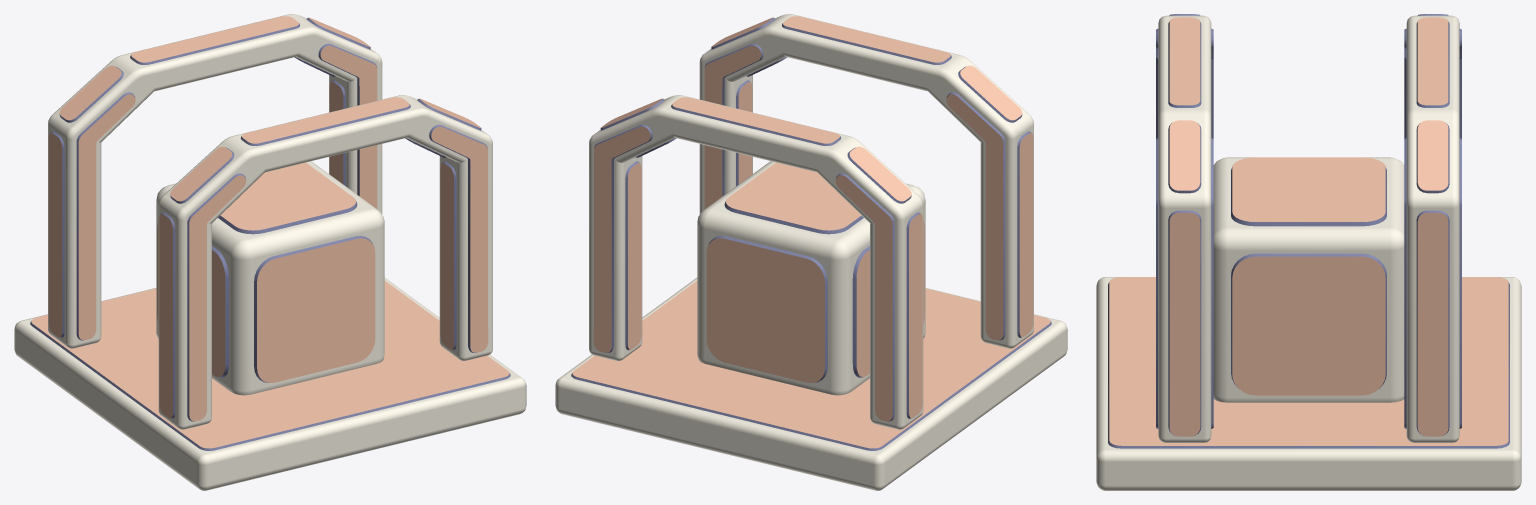
File: R4X_ModuleDurabilityBooster.fbx
The picture shows the model from 3 angles, left to right: view 1: azimuth 30°, elevation 25°; view 2: azimuth 150°, elevation 25°; view 3: azimuth 270°, elevation 25°; orthographic projection. The views are drawn at different scales.
Visible parts, largest first — view 1: R4X_ModuleDurabilityBooster_Body; view 2: R4X_ModuleDurabilityBooster_Body; view 3: R4X_ModuleDurabilityBooster_Body.
Boxes of the visible parts, x1,y1,x2,y2 form: R4X_ModuleDurabilityBooster_Body: [14, 14, 526, 490]; R4X_ModuleDurabilityBooster_Body: [555, 14, 1067, 490]; R4X_ModuleDurabilityBooster_Body: [1096, 14, 1521, 490].
Bounding box in the file's own units: 0.514 × 0.46 × 0.514.
